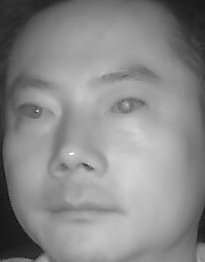eye: (15, 100, 57, 126), (108, 93, 147, 120)
mouth: (44, 190, 123, 233)
